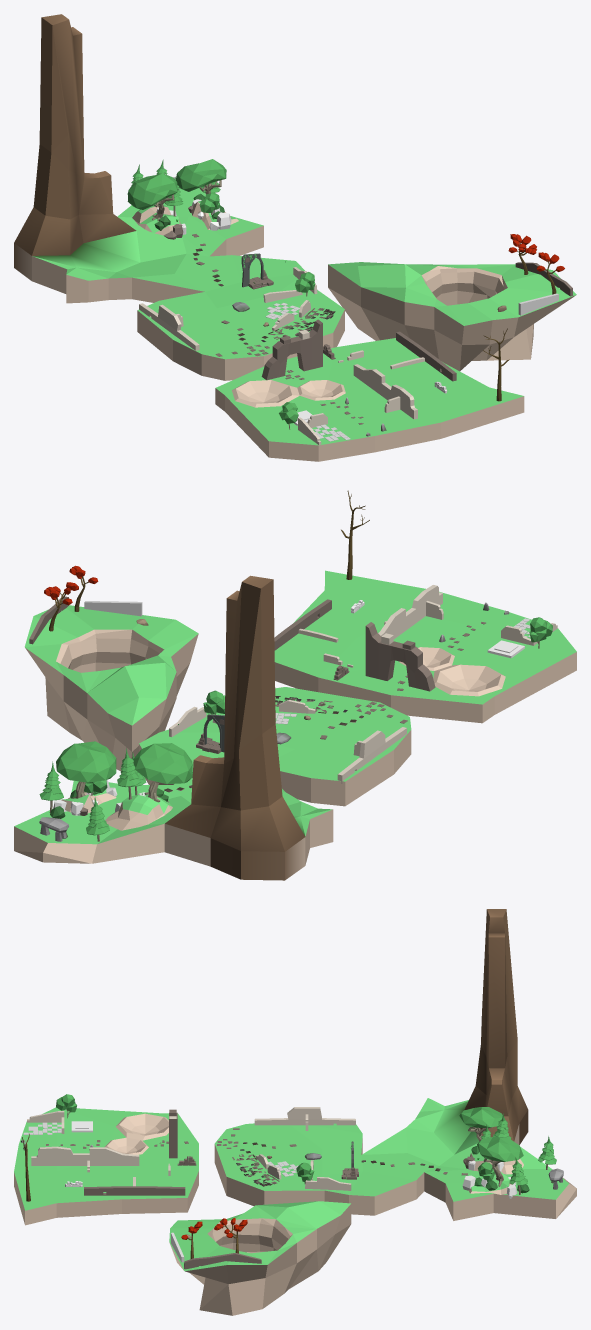
The model's file is SM_05 Ruins Village.fbx.
The picture shows the model from 3 angles, top to bottom: view 1: azimuth 30°, elevation 25°; view 2: azimuth 150°, elevation 25°; view 3: azimuth 270°, elevation 25°; orthographic projection. The views are drawn at different scales.
Parts seen in each view (by area): view 1: Plane.005, Cylinder.005, Plane.004, Cube.011, tree.001, tree.002, wall ruins.010, STREET_stones.001, miniForest.001, wall ruins.006, wall ruins.009; view 2: Plane.005, Cylinder.005, Plane.004, Cube.011, tree.002, tree.001, miniForest.001, wall ruins.010, wall ruins.006, wall ruins.009, STREET_stones.001, Cube.012 (+6 smaller); view 3: Plane.005, Cylinder.005, Plane.004, wall ruins.010, wall ruins.006, tree.002, wall ruins.009, STREET_stones.001, tree.001, miniForest.001, wall ruins.011.
Boxes of the visible parts, x1,y1,x2,y2 form: Plane.005: (14,14,344,380); Cylinder.005: (215,338,524,461); Plane.004: (328,262,576,371); Cube.011: (261,319,322,380); tree.001: (127,173,177,221); tree.002: (176,159,226,212); wall ruins.010: (353,364,417,419); STREET_stones.001: (192,234,363,424); miniForest.001: (132,201,238,235); wall ruins.006: (139,303,199,350); wall ruins.009: (396,331,456,381); Plane.005: (14,575,411,880); Cylinder.005: (274,570,576,723); Plane.004: (24,605,198,771); Cube.011: (365,622,435,691); tree.002: (56,741,116,803); tree.001: (133,743,192,802); miniForest.001: (61,789,172,830); wall ruins.010: (378,585,442,639); wall ruins.006: (337,727,406,783); wall ruins.009: (274,599,331,650); STREET_stones.001: (164,622,485,792); Cube.012: (84,601,142,616); Plane.005: (214,909,576,1220); Cylinder.005: (14,1107,198,1225); Plane.004: (169,1201,351,1315); wall ruins.010: (31,1146,139,1165); wall ruins.006: (254,1107,355,1125); tree.002: (477,1137,523,1186); wall ruins.009: (84,1186,185,1195); STREET_stones.001: (46,1128,467,1186); tree.001: (459,1107,502,1141); miniForest.001: (468,1152,523,1194); wall ruins.011: (184,1253,261,1269).
Bounding box in the file's own units: 6001 × 4441 × 8628.
